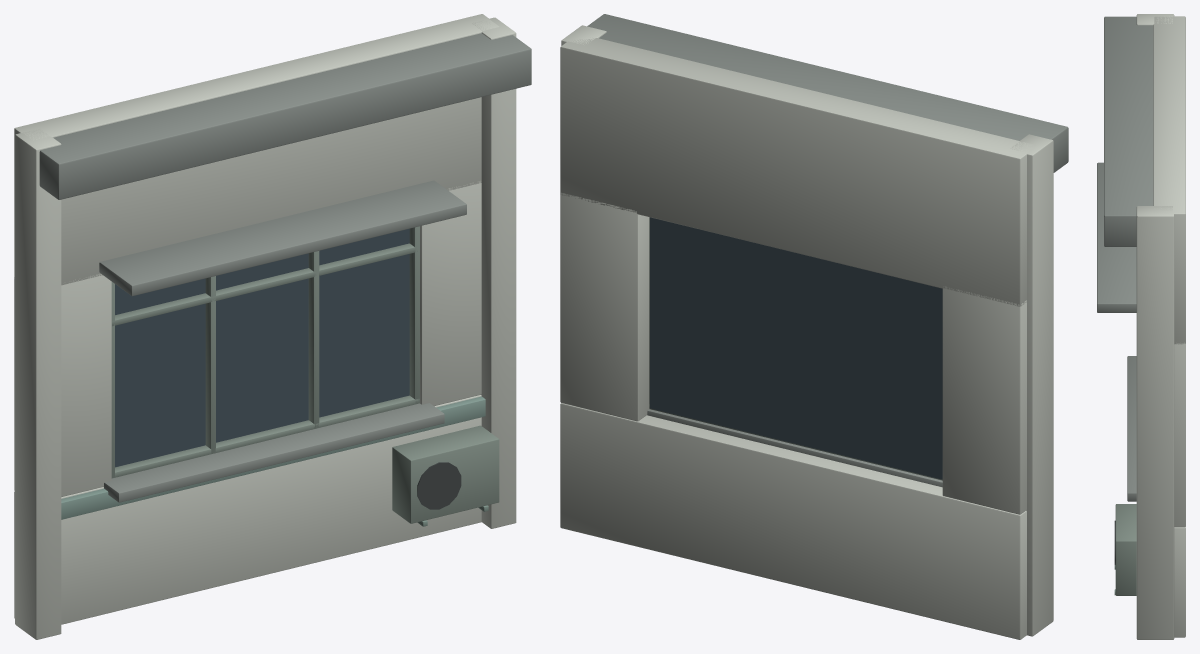
File: CTCC_ENV_ClinicFacadeBay_2002.fbx
The picture shows the model from 3 angles, left to right: view 1: azimuth 30°, elevation 25°; view 2: azimuth 150°, elevation 25°; view 3: azimuth 270°, elevation 25°; orthographic projection. The views are drawn at different scales.
Parts seen in each view (by area): view 1: CTCC_ENV_ClinicFacadeBay_2002_LOD0; view 2: CTCC_ENV_ClinicFacadeBay_2002_LOD0; view 3: CTCC_ENV_ClinicFacadeBay_2002_LOD0.
Part boxes in pixels (left/top/right/bottom): CTCC_ENV_ClinicFacadeBay_2002_LOD0: left=14, top=14, right=531, bottom=639; CTCC_ENV_ClinicFacadeBay_2002_LOD0: left=560, top=14, right=1068, bottom=639; CTCC_ENV_ClinicFacadeBay_2002_LOD0: left=1097, top=14, right=1185, bottom=639.
Size of what is drawn, in the model's own units: 4.1 by 4 by 0.76.
